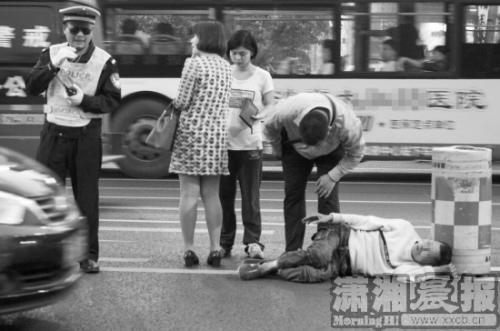bending: (261, 83, 373, 281)
down: (227, 205, 462, 287)
up: (24, 1, 118, 294), (154, 12, 256, 279), (211, 32, 274, 266)
